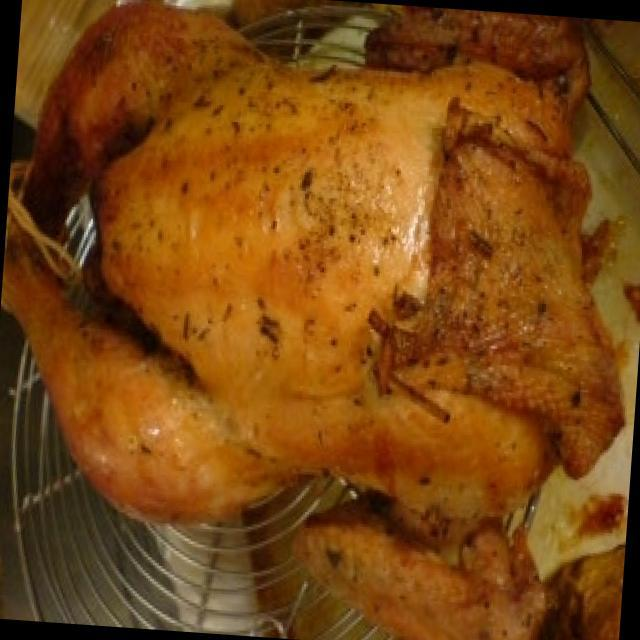Chicken: (0, 0, 631, 542)
